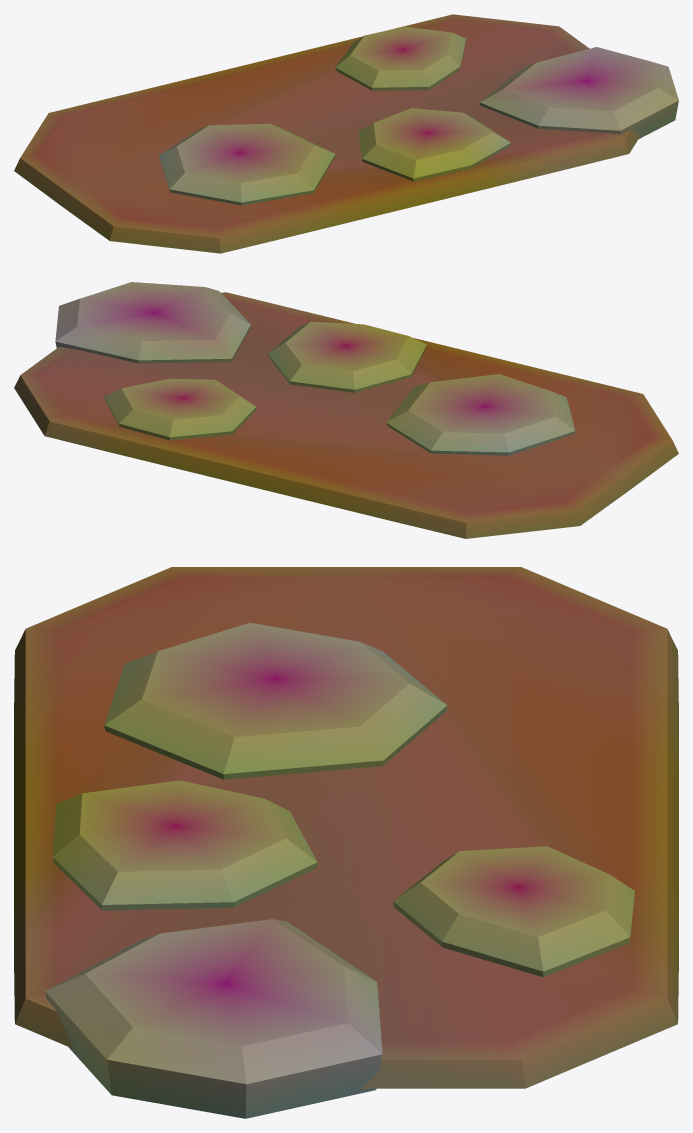
The model's file is Path_Stones_Straight.fbx.
3 renders of one model, top to bottom at view 1: azimuth 30°, elevation 25°; view 2: azimuth 150°, elevation 25°; view 3: azimuth 270°, elevation 25°, orthographic. The views are drawn at different scales.
Visible parts, largest first — view 1: Path_Stones_Straight; view 2: Path_Stones_Straight; view 3: Path_Stones_Straight.
Boxes of the visible parts, x1,y1,x2,y2 form: Path_Stones_Straight: [14, 14, 678, 253]; Path_Stones_Straight: [14, 282, 678, 538]; Path_Stones_Straight: [14, 567, 678, 1118].
Bounding box in the file's own units: 2.15 × 0.11 × 1.14.
